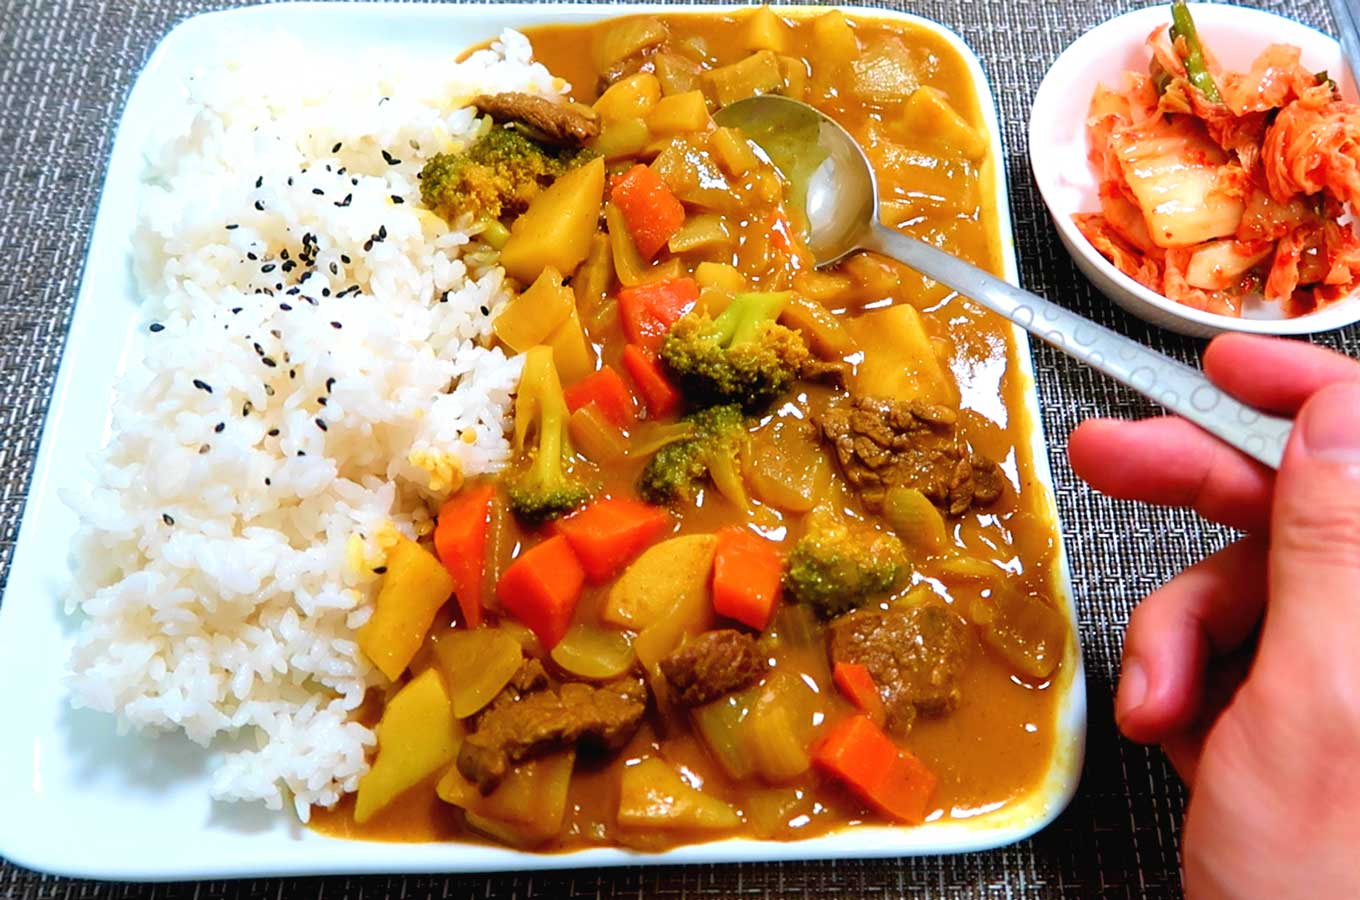curry: (853, 41, 984, 251), (586, 21, 881, 114), (847, 275, 1010, 420), (687, 138, 801, 309)
